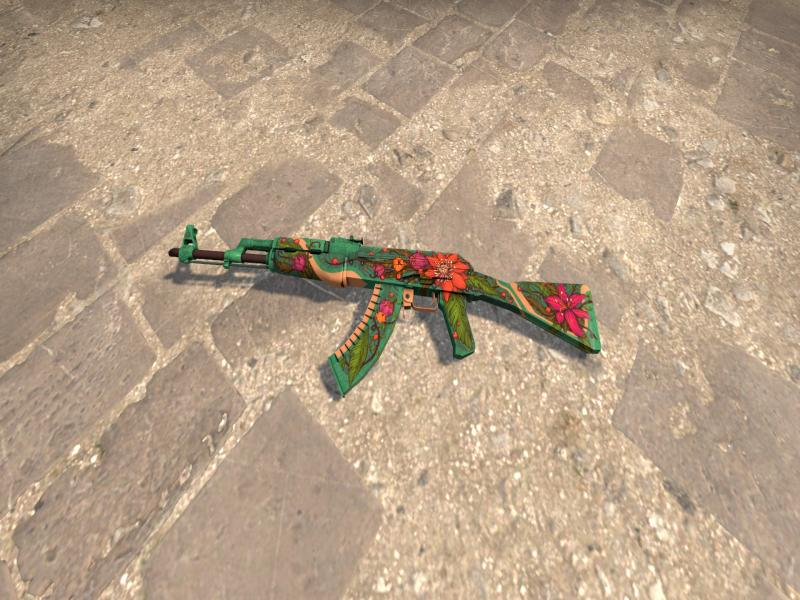AK47: (170, 226, 601, 394)
